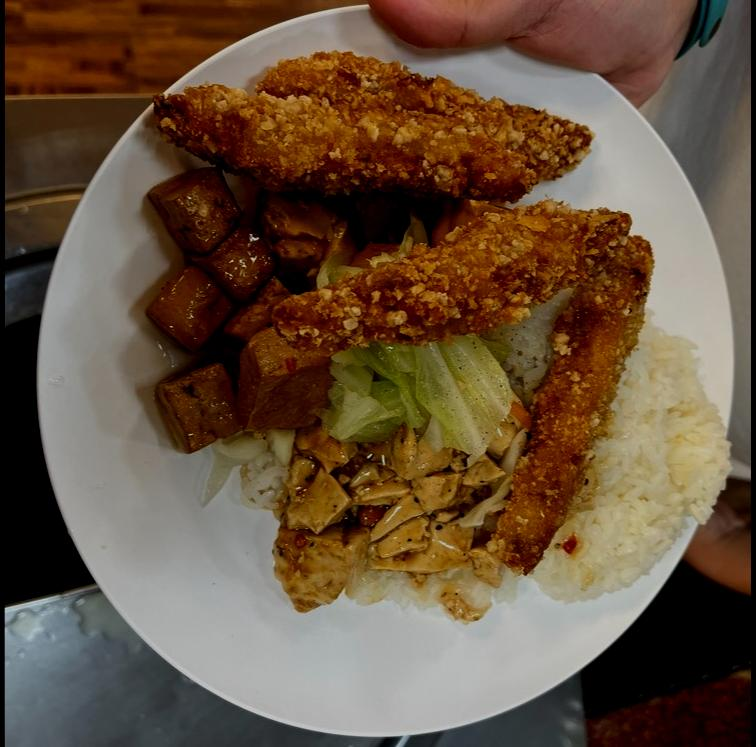fried spanish mackerel: (152, 44, 658, 579)
plate: (25, 0, 723, 739)
side dish: (136, 167, 346, 451), (315, 236, 517, 451), (265, 431, 501, 608)
white rice: (484, 300, 724, 596)
